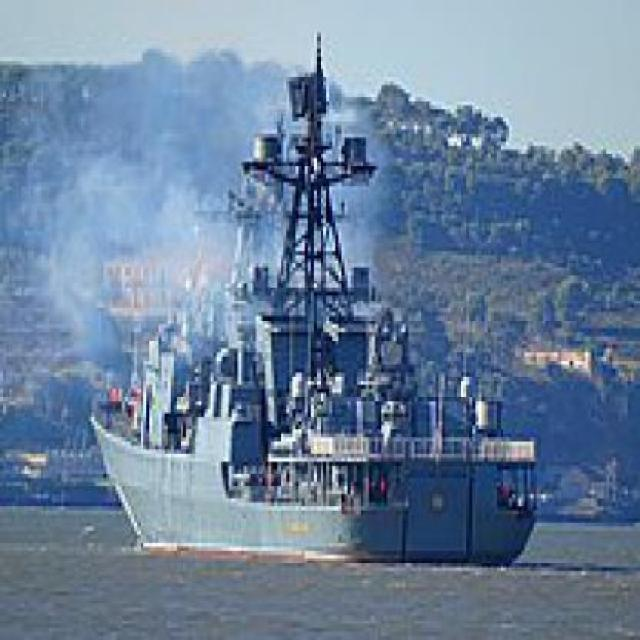warship2: (84, 17, 541, 588)
